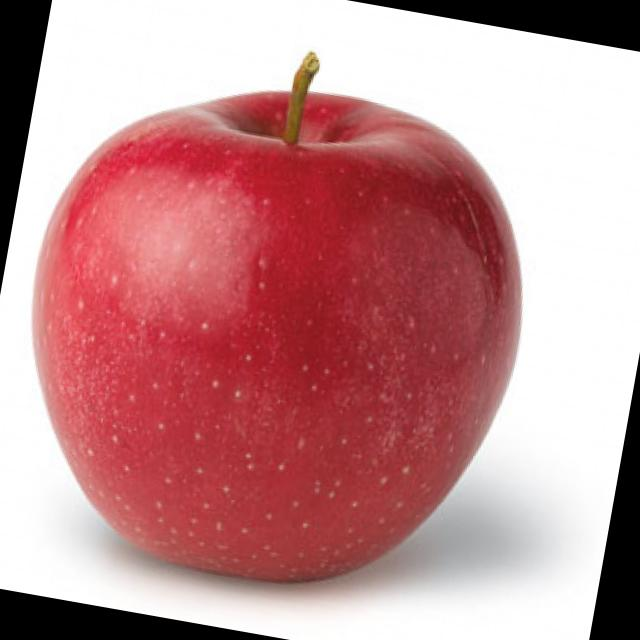apple: (0, 44, 553, 640)
